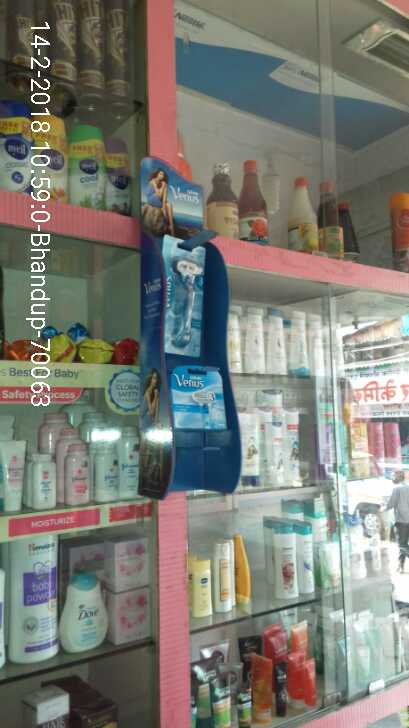beauty: (164, 239, 201, 361), (170, 366, 231, 429)
